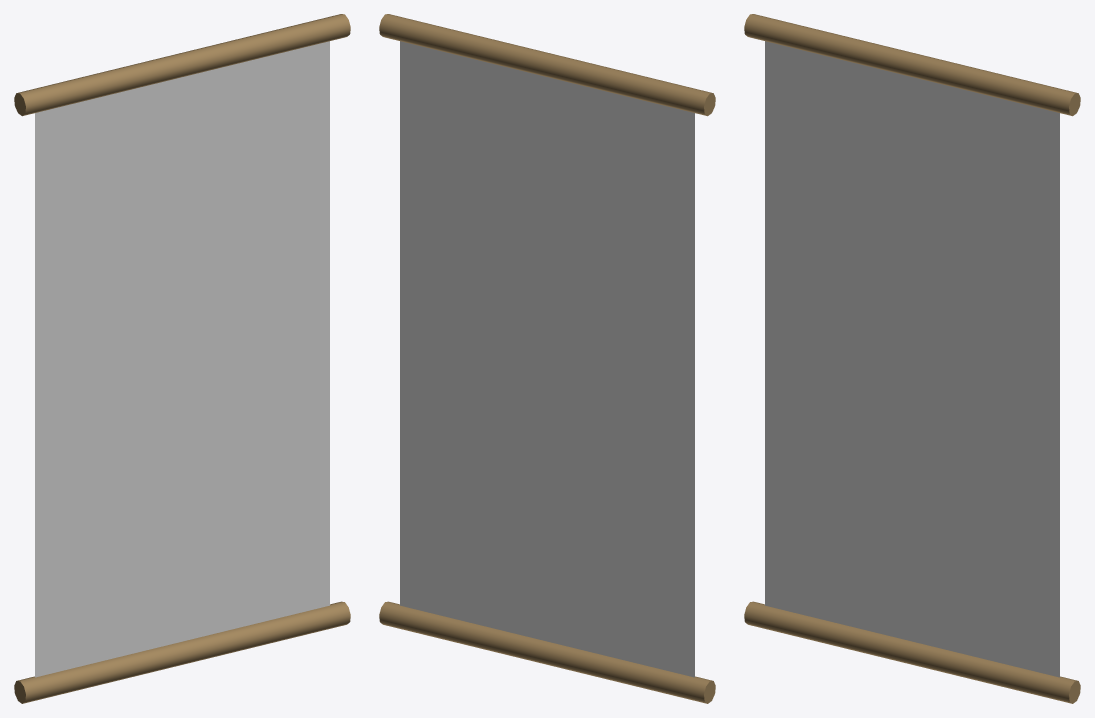
Rendered from Divider.fbx.
3 views of the same model, side by side, from view 1: azimuth 30°, elevation 25°; view 2: azimuth 150°, elevation 25°; view 3: azimuth 330°, elevation 25° (orthographic).
Visible parts, largest first — view 1: Divider; view 2: Divider; view 3: Divider.
Boxes of the visible parts, box(x1,y1,x2,y2) form: Divider: box(14, 14, 350, 703); Divider: box(379, 14, 715, 703); Divider: box(744, 14, 1080, 703).
Bounding box in the file's own units: 44.69 × 80.07 × 2.84.
